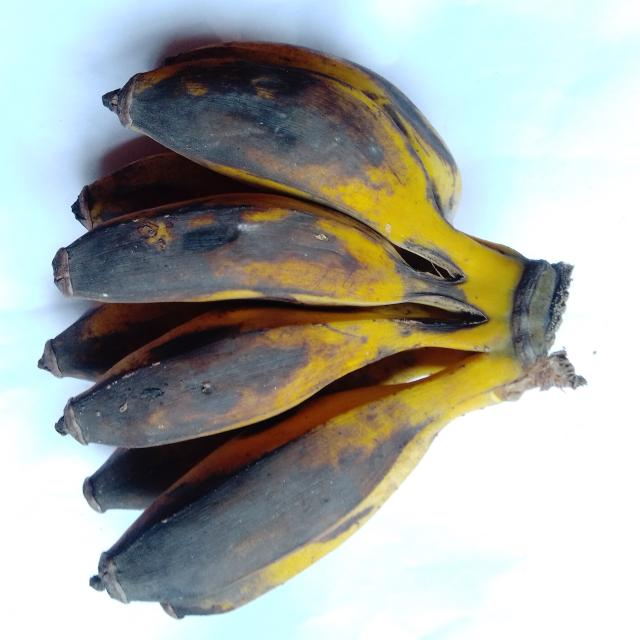banana: (91, 262, 584, 617), (93, 354, 525, 616), (105, 59, 525, 323), (104, 59, 460, 276), (56, 305, 483, 447), (165, 42, 461, 221), (54, 194, 481, 315), (84, 423, 268, 512), (72, 150, 257, 229), (39, 303, 219, 381), (83, 432, 234, 512)
